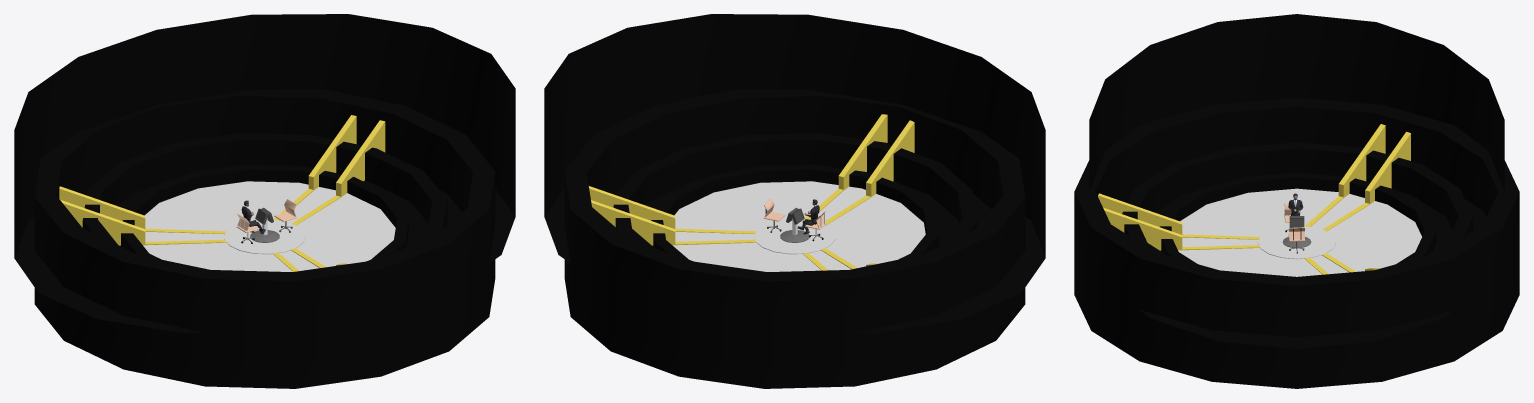
3 views of the same model, side by side, from view 1: azimuth 30°, elevation 25°; view 2: azimuth 150°, elevation 25°; view 3: azimuth 270°, elevation 25° (orthographic). The views are drawn at different scales.
Parts seen in each view (by area): view 1: Tube.2, Disque.1, Disque, Tube.1, Tube, Cube (×2), Cube.1 (×2), Cylindre; view 2: Tube.2, Disque.1, Disque, Tube.1, Tube, Cube.1 (×2), Cube (×2), Cylindre; view 3: Tube.2, Disque.1, Disque, Tube.1, Tube, Cube.1 (×2), Cube (×2), Cylindre.
Boxes of the visible parts, x1,y1,x2,y2 form: Tube.2: (34,89,495,388); Disque.1: (14,14,515,332); Disque: (143,181,395,271); Tube.1: (82,133,447,252); Tube: (121,164,408,261); Cube (×2): (59,120,385,234); Cube.1 (×2): (60,115,356,245); Cylindre: (224,220,305,254); Tube.2: (564,89,1025,388); Disque.1: (544,14,1045,332); Disque: (673,181,925,271); Tube.1: (613,133,977,252); Tube: (651,164,938,261); Cube.1 (×2): (591,114,887,245); Cube (×2): (589,120,914,234); Cylindre: (754,220,835,254); Tube.2: (1074,97,1519,388); Disque.1: (1089,14,1504,348); Disque: (1178,188,1421,276); Tube.1: (1122,142,1473,255); Tube: (1160,172,1436,263); Cube.1 (×2): (1103,124,1385,250); Cube (×2): (1098,131,1410,239); Cylindre: (1257,226,1336,259).
Size of the model in its own units: 30.25 by 11.66 by 26.89.
Materials: 7 (1 with a texture image).
